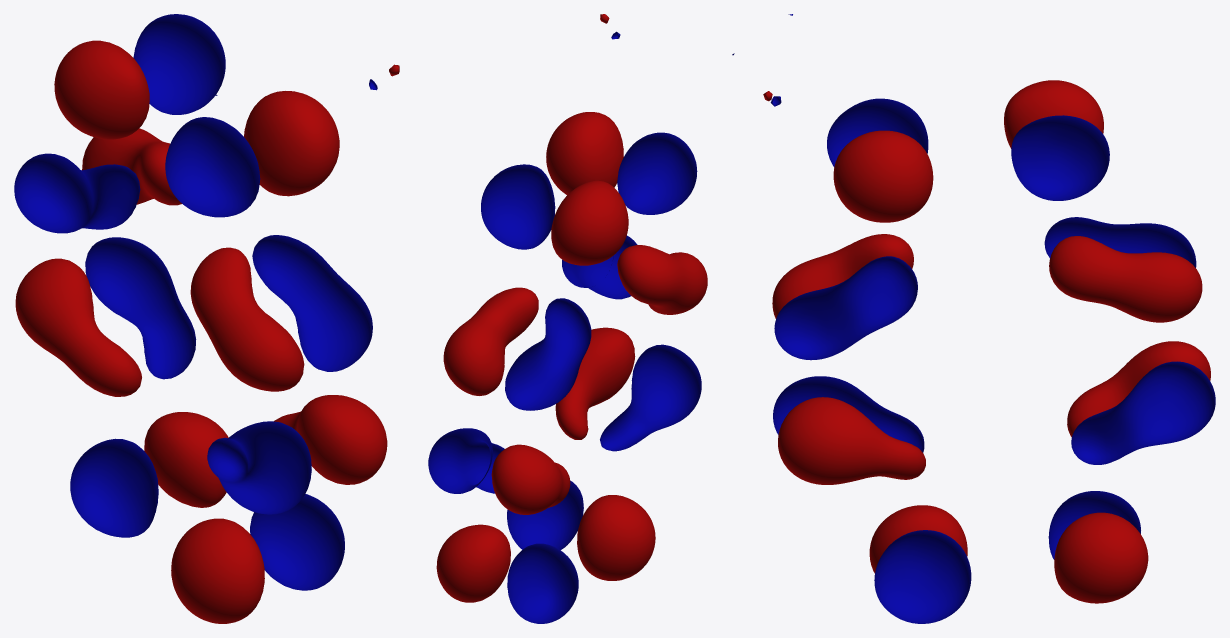
File: vmdscene.obj
3 views of the same model, side by side, from view 1: azimuth 30°, elevation 25°; view 2: azimuth 150°, elevation 25°; view 3: azimuth 270°, elevation 25° (orthographic). The views are drawn at different scales.
Parts seen in each view (by area): view 1: vmd_mol0_rep2, vmd_mol0_rep1; view 2: vmd_mol0_rep1, vmd_mol0_rep2; view 3: vmd_mol0_rep1, vmd_mol0_rep2.
Boxes of the visible parts, box(x1,y1,x2,y2) form: vmd_mol0_rep2: box(14, 14, 377, 590); vmd_mol0_rep1: box(15, 40, 399, 623); vmd_mol0_rep1: box(436, 14, 707, 602); vmd_mol0_rep2: box(428, 31, 734, 623); vmd_mol0_rep1: box(763, 80, 1210, 603); vmd_mol0_rep2: box(770, 14, 1215, 623).
Bounding box in the file's own units: 0.4672 × 1.3 × 0.9755.
